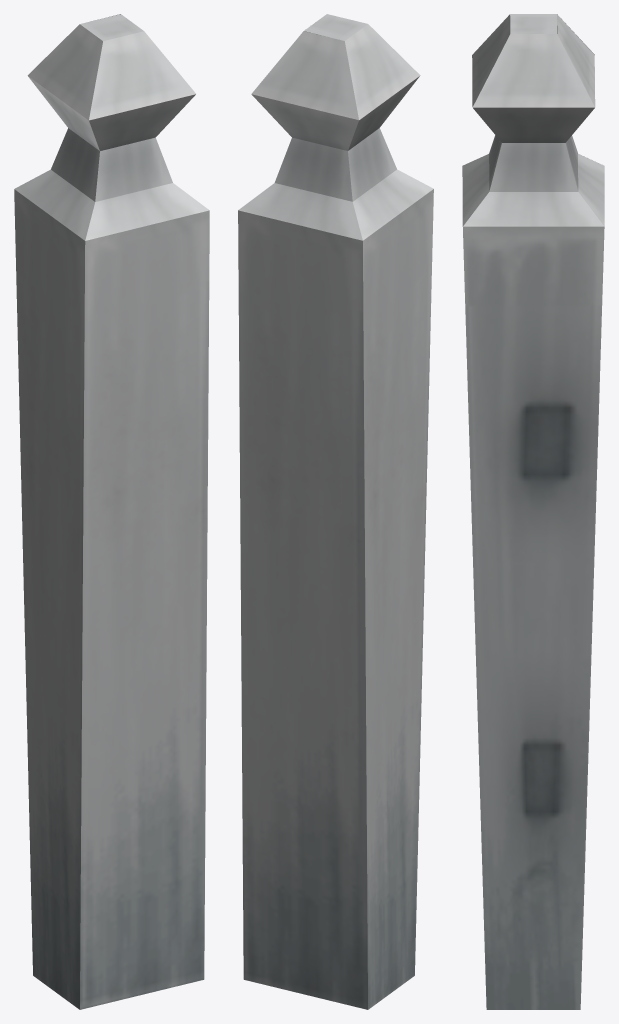
The model's file is fence_picket_end.obj.
3 views of the same model, side by side, from view 1: azimuth 30°, elevation 25°; view 2: azimuth 150°, elevation 25°; view 3: azimuth 270°, elevation 25° (orthographic).
Visible parts, largest first — view 1: fence_picket_end; view 2: fence_picket_end; view 3: fence_picket_end.
Part boxes in pixels (bbox=[...]): fence_picket_end: bbox=[14, 14, 209, 1009]; fence_picket_end: bbox=[238, 14, 433, 1009]; fence_picket_end: bbox=[462, 14, 604, 1009].
Bounding box in the file's own units: 0.4886 × 3.39 × 0.4582.
Materials: 1 (1 with a texture image).
